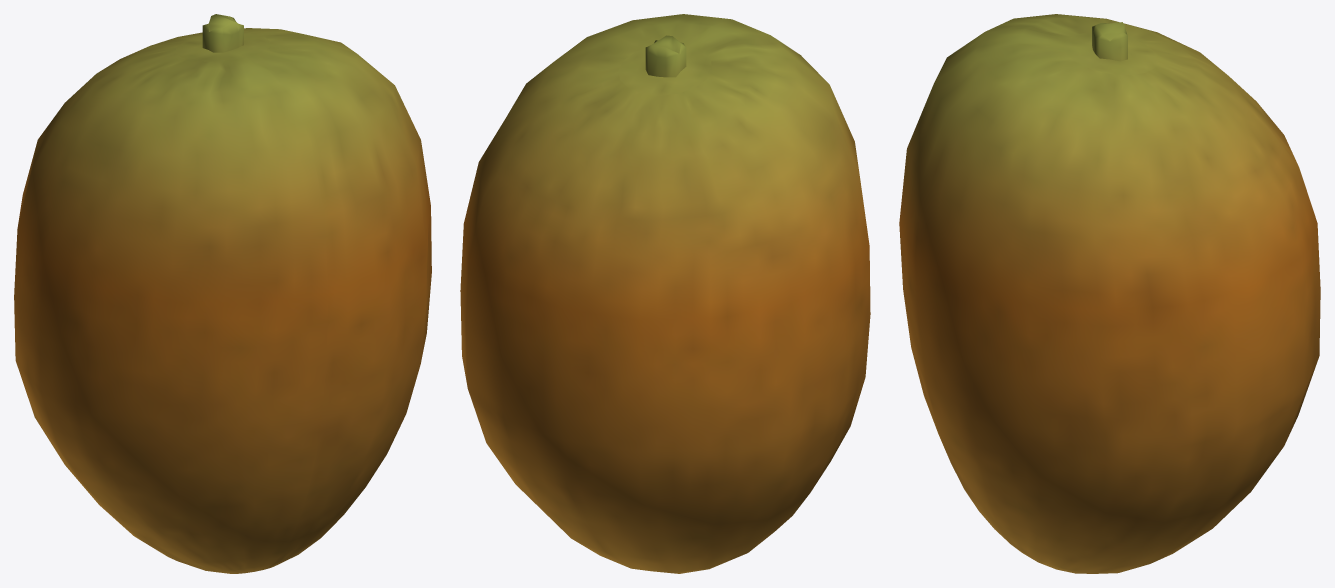
File: SM_Mango_01.fbx
3 views of the same model, side by side, from view 1: azimuth 30°, elevation 25°; view 2: azimuth 150°, elevation 25°; view 3: azimuth 270°, elevation 25° (orthographic). The views are drawn at different scales.
Visible parts, largest first — view 1: SM_Mango_01_LOD0; view 2: SM_Mango_01_LOD0; view 3: SM_Mango_01_LOD0.
Boxes of the visible parts, left/top/right/bottom form: SM_Mango_01_LOD0: left=14, top=14, right=431, bottom=573; SM_Mango_01_LOD0: left=460, top=14, right=870, bottom=573; SM_Mango_01_LOD0: left=899, top=14, right=1320, bottom=573.
Size of the model in its own units: 9.64 by 9.58 by 13.48.
